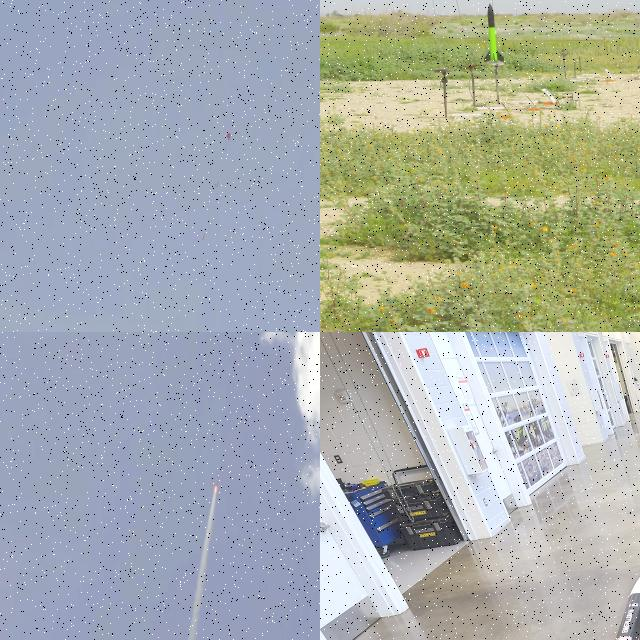Rocket: (484, 3, 504, 63), (214, 473, 218, 489), (202, 232, 205, 240)
